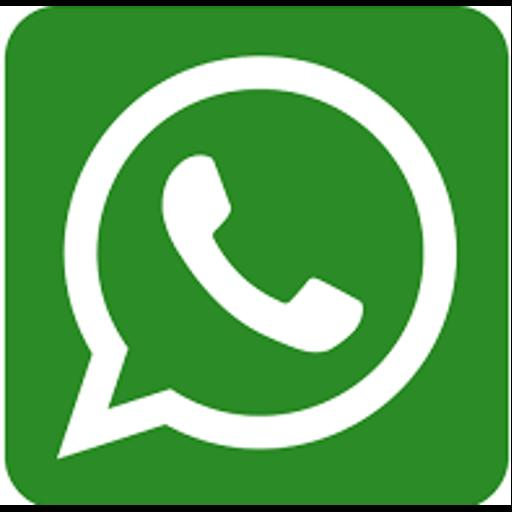WhatsApp: (0, 6, 511, 505)
